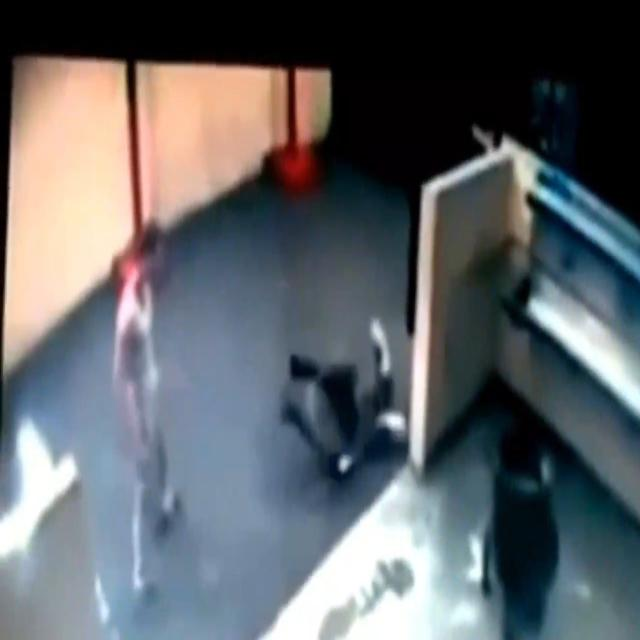fight: (276, 314, 410, 477)
